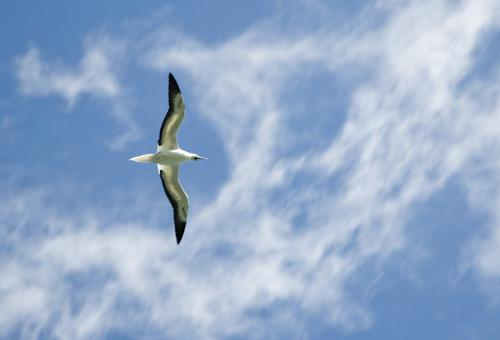002.Laysan_Albatross: (127, 73, 208, 245)
